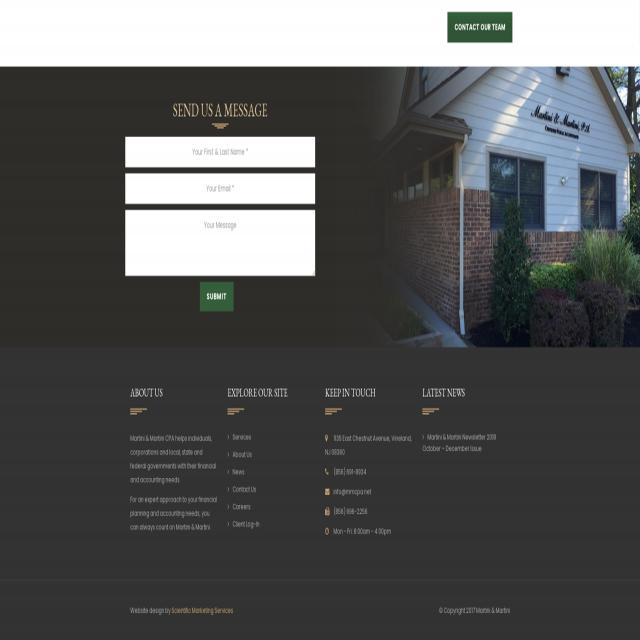button: (448, 12, 512, 43), (200, 282, 234, 311)
field: (125, 210, 315, 276), (125, 173, 315, 204), (125, 137, 315, 167)
